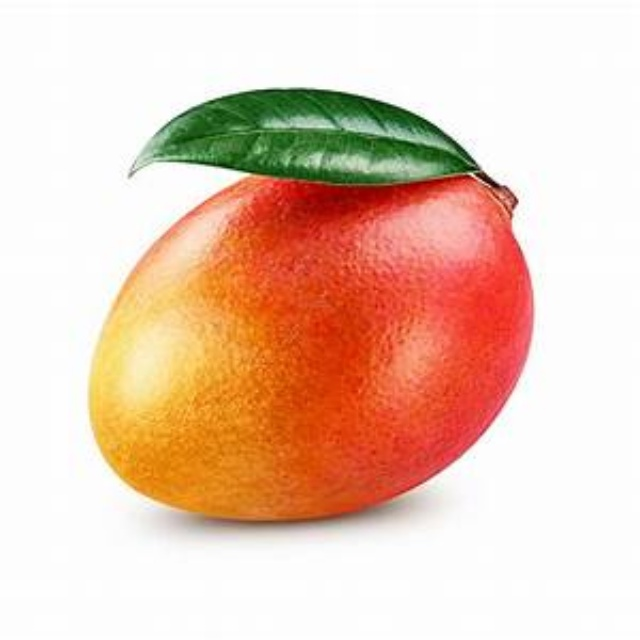mango: (89, 92, 535, 524)
